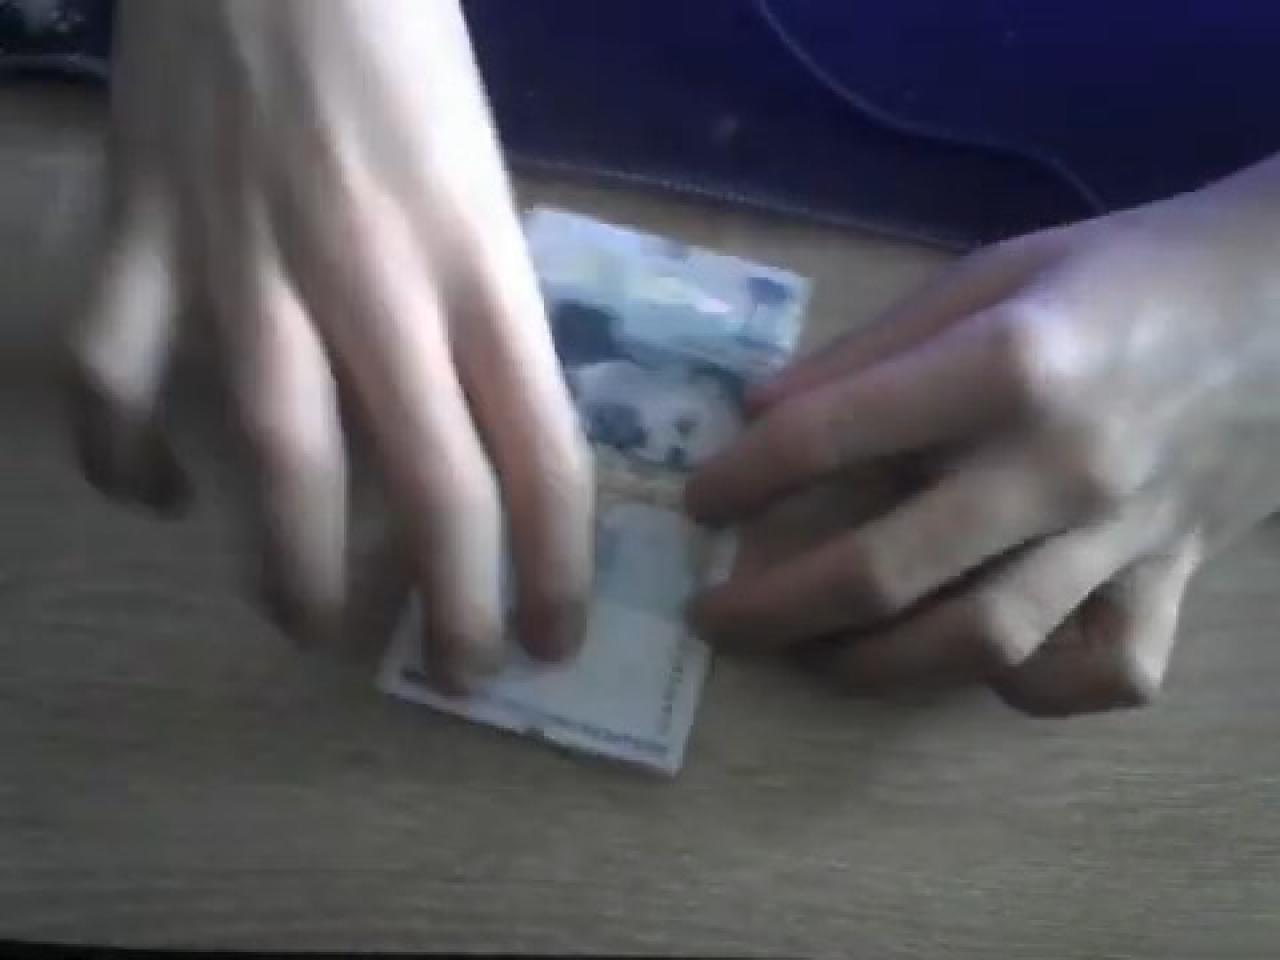20leva: (525, 206, 813, 475), (595, 440, 690, 522)
